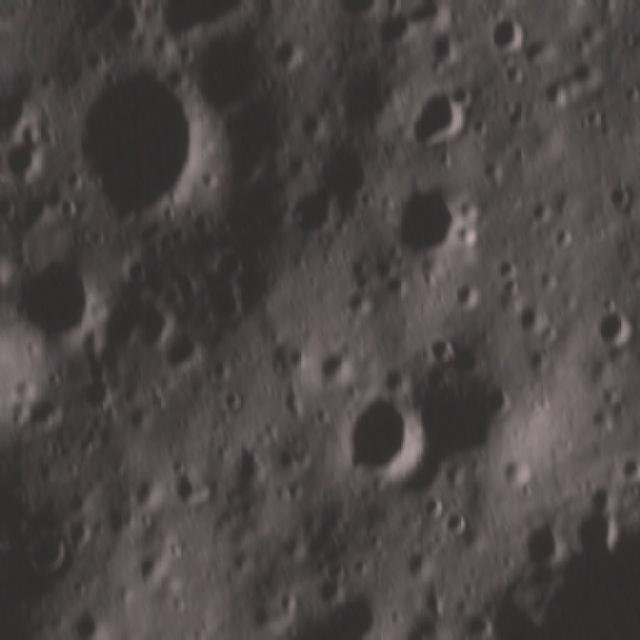crater: (68, 57, 207, 217), (342, 363, 424, 483), (280, 143, 366, 240), (15, 254, 100, 334), (392, 79, 472, 152), (389, 180, 468, 249), (22, 521, 70, 573), (158, 329, 208, 376), (480, 14, 525, 64), (265, 29, 310, 71), (590, 302, 630, 349)
